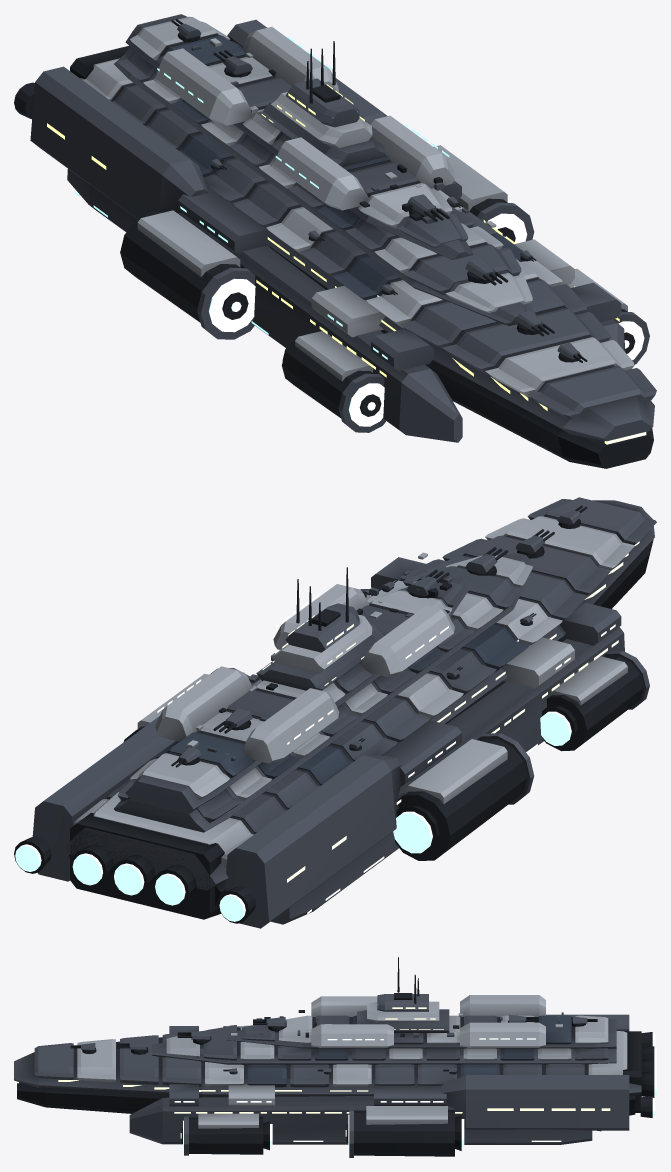
Rendered from battlecruiser.glb.
3 renders of one model, top to bottom at view 1: azimuth 30°, elevation 25°; view 2: azimuth 150°, elevation 25°; view 3: azimuth 270°, elevation 25°, orthographic. The views are drawn at different scales.
Parts seen in each view (by area): view 1: hull_battlecruiser; view 2: hull_battlecruiser; view 3: hull_battlecruiser.
Part boxes in pixels (x1,y1,x2,y2): hull_battlecruiser: (14,14,656,468); hull_battlecruiser: (14,497,656,928); hull_battlecruiser: (14,957,656,1157).
Bounding box in the file's own units: 150 × 101 × 389.
